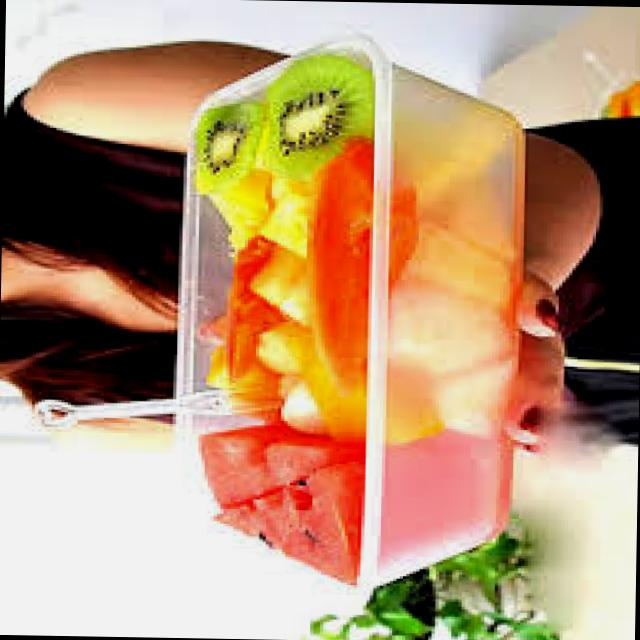plastic: (201, 37, 525, 587)
